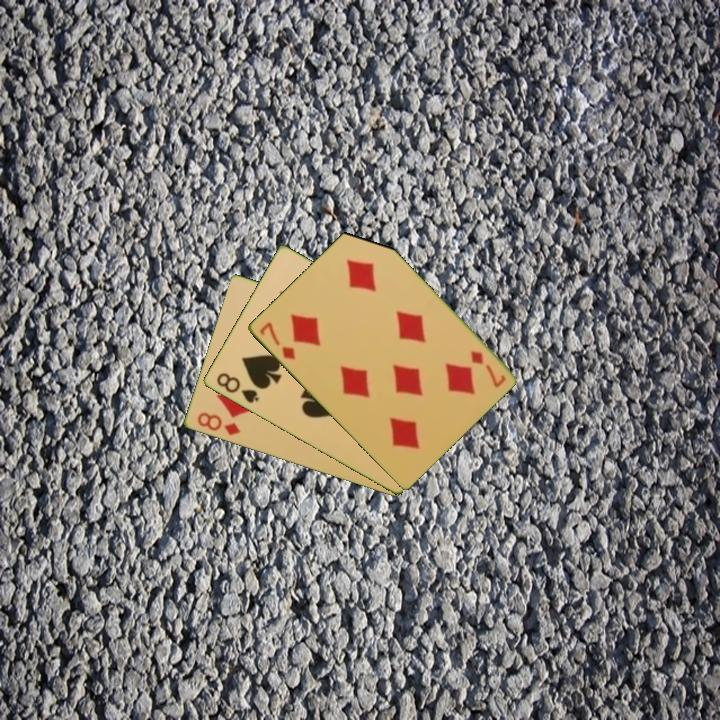7d: (255, 318, 298, 363), (466, 347, 508, 391)
8d: (193, 409, 243, 439)
8s: (212, 369, 261, 406)
